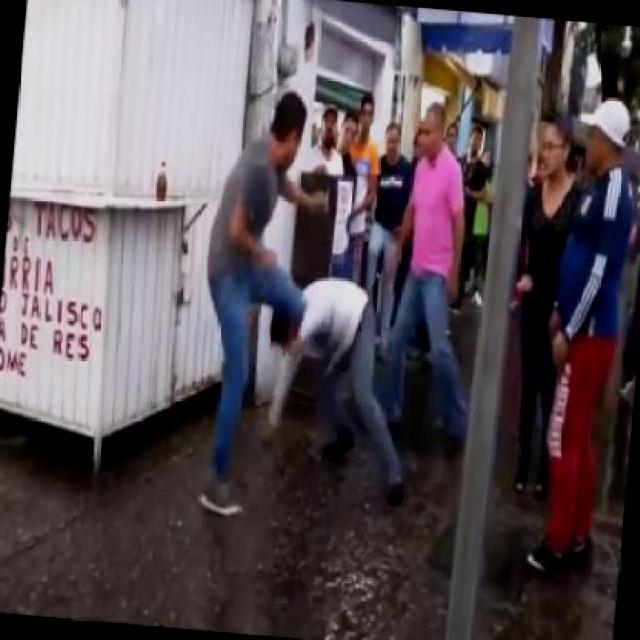fight: (182, 87, 408, 538)
